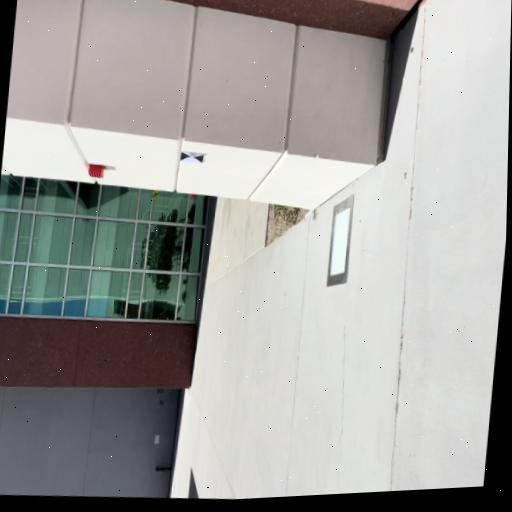target9: (180, 150, 204, 164)
